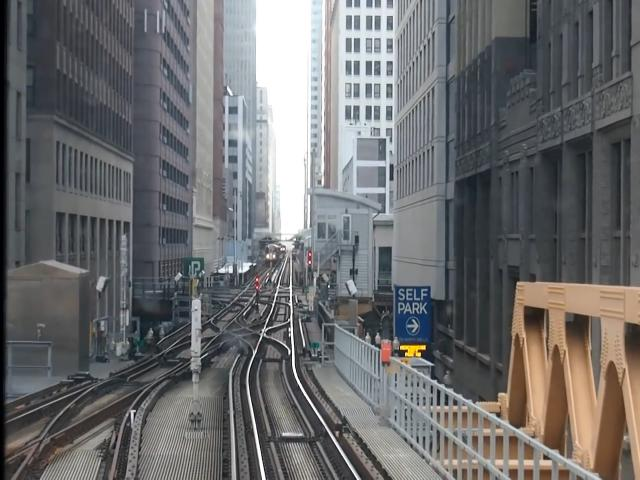signal light: (256, 277, 261, 315), (308, 251, 314, 275)
